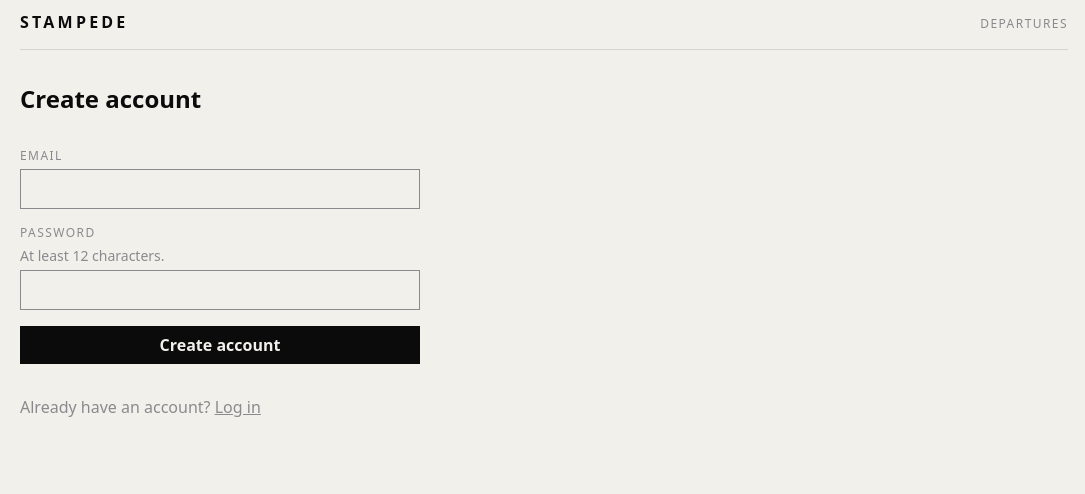
RegisterPage › VALIDATION_FAILED on the password: the server's rule is shown under the hint
In the field labelled "Email": (220, 189) [20,169,420,209], type "new@test.local"
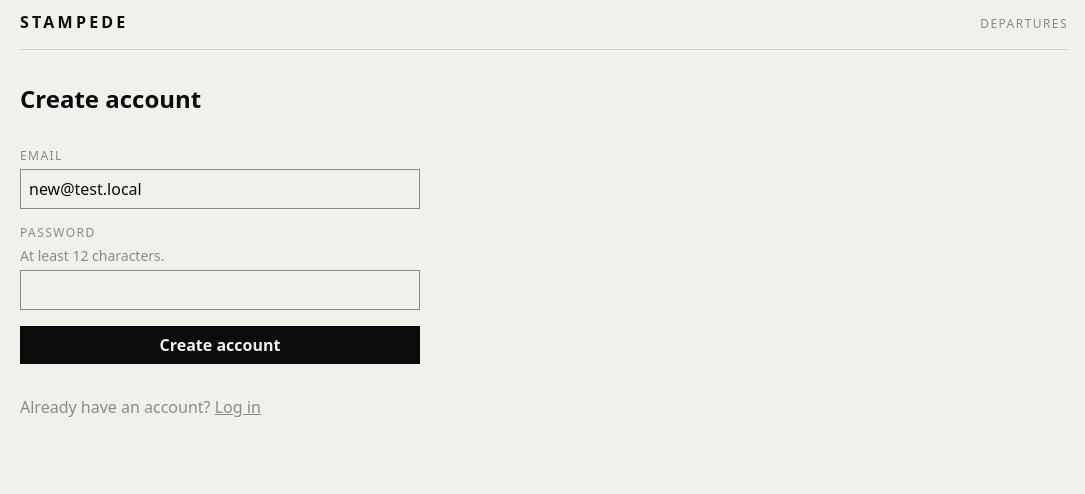
In the password field labelled "Password": (220, 290) [20,270,420,310], type "short"
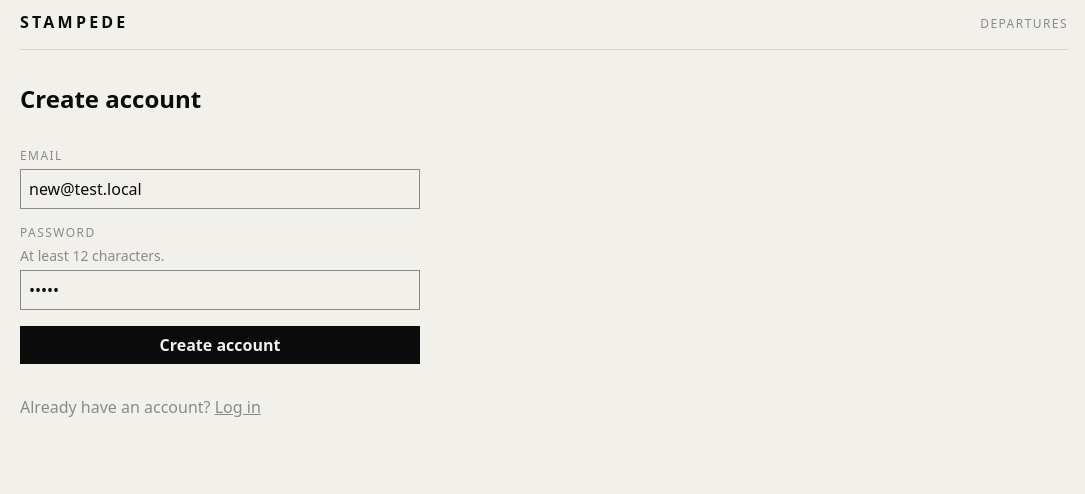
Click the button "Create account": (220, 345) [20,326,420,364]
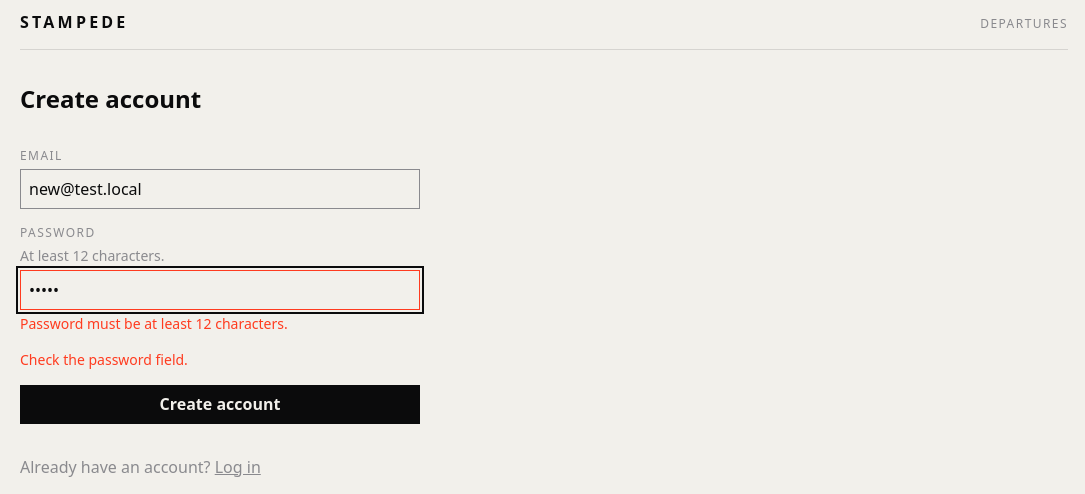
Now the message reads "Check the password field.", box [20,350,188,368]
